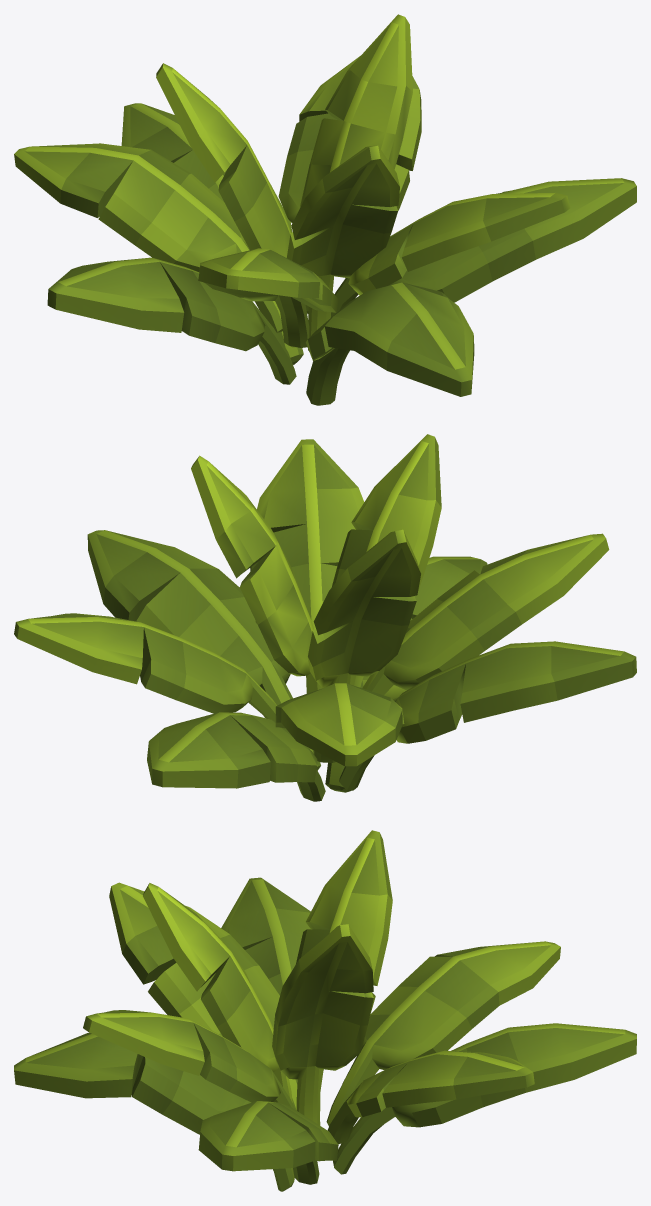
Rendered from banana_tree_leafs_LOD_group.fbx.
3 renders of one model, top to bottom at view 1: azimuth 30°, elevation 25°; view 2: azimuth 150°, elevation 25°; view 3: azimuth 270°, elevation 25°, orthographic. The views are drawn at different scales.
Parts seen in each view (by area): view 1: banana_tree_leafs_LOD0; view 2: banana_tree_leafs_LOD0; view 3: banana_tree_leafs_LOD0.
Boxes of the visible parts, x1=… form: banana_tree_leafs_LOD0: x1=14, y1=14, x2=636, y2=405; banana_tree_leafs_LOD0: x1=14, y1=434, x2=636, y2=801; banana_tree_leafs_LOD0: x1=14, y1=830, x2=636, y2=1191.
Size of what is drawn, in the model's own units: 383 by 217 by 388.
Materials: 1 (1 with a texture image).
